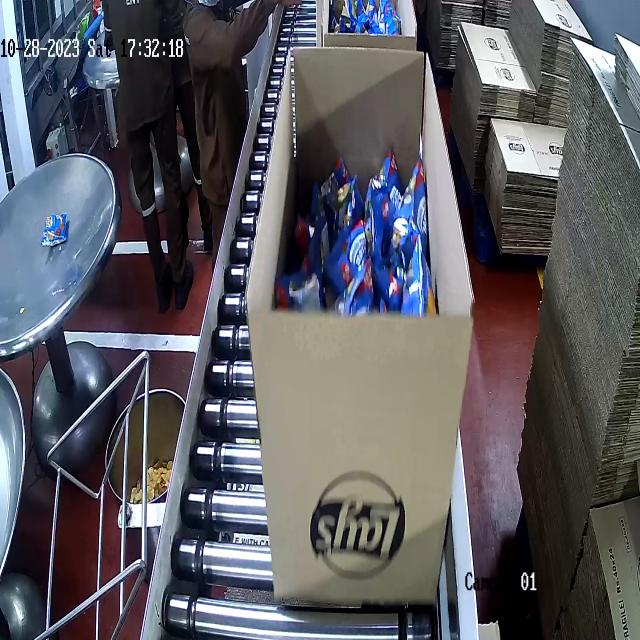PAPRIKA: (288, 149, 435, 312)
